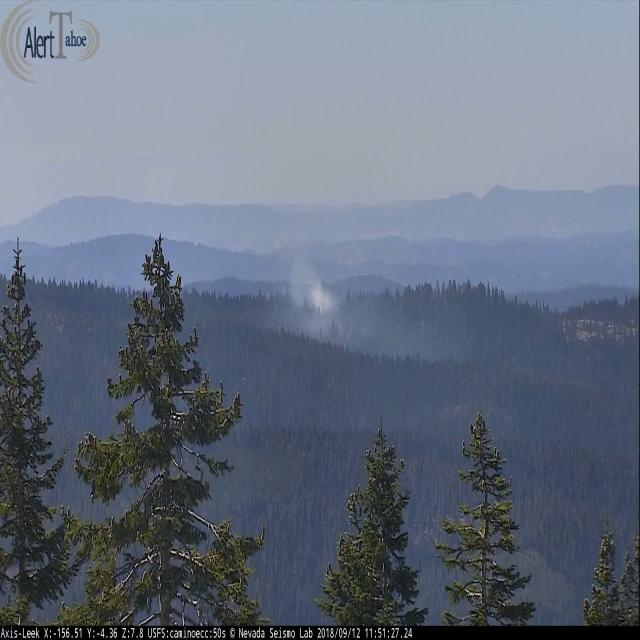smoke: (292, 250, 335, 317)
